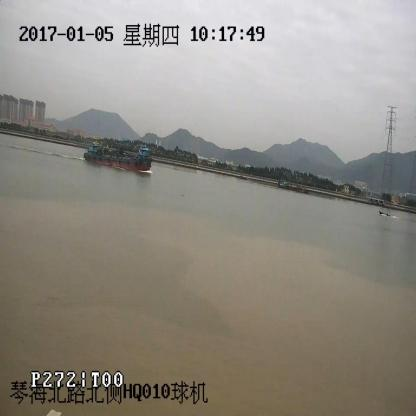Bulk Carrier: (85, 140, 150, 174)
